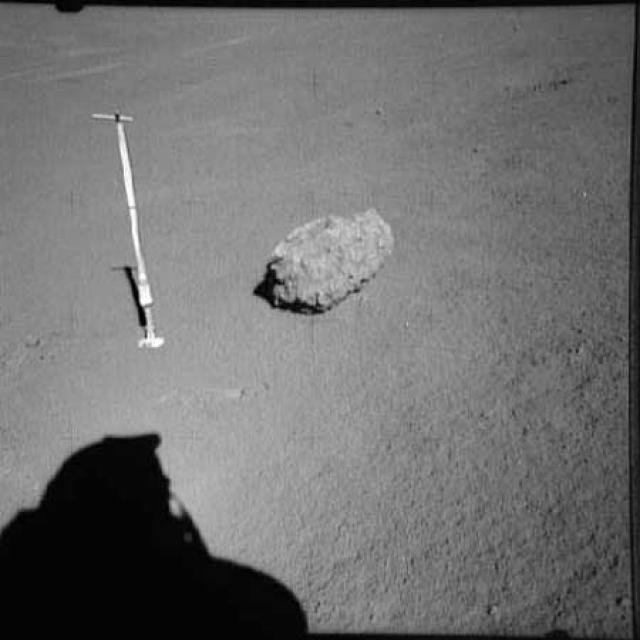artifact: (51, 92, 211, 364)
rock: (250, 203, 410, 327)
